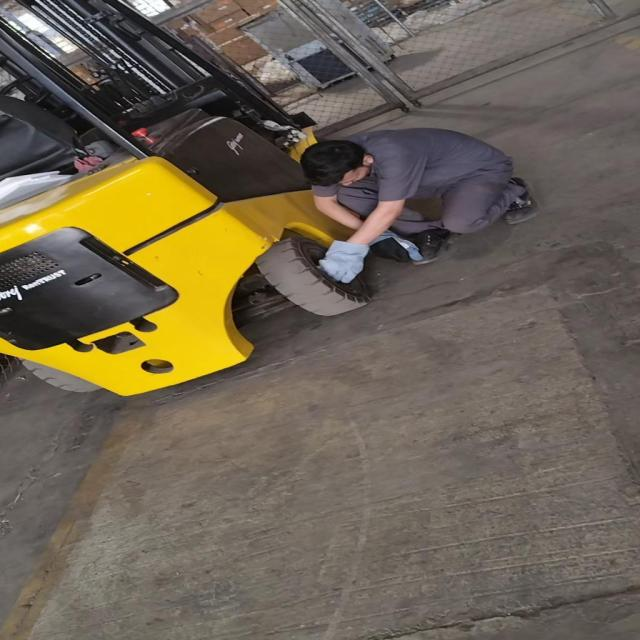Gloves-Detection: (310, 237, 360, 281), (365, 228, 418, 264)
